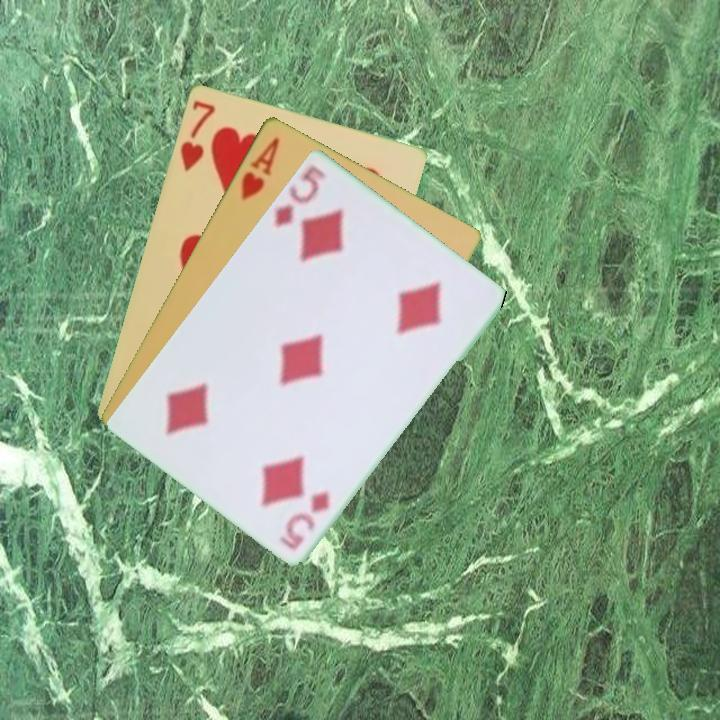5d: (270, 161, 324, 231), (278, 486, 333, 553)
7h: (176, 96, 218, 174)
Ah: (237, 133, 283, 203)
